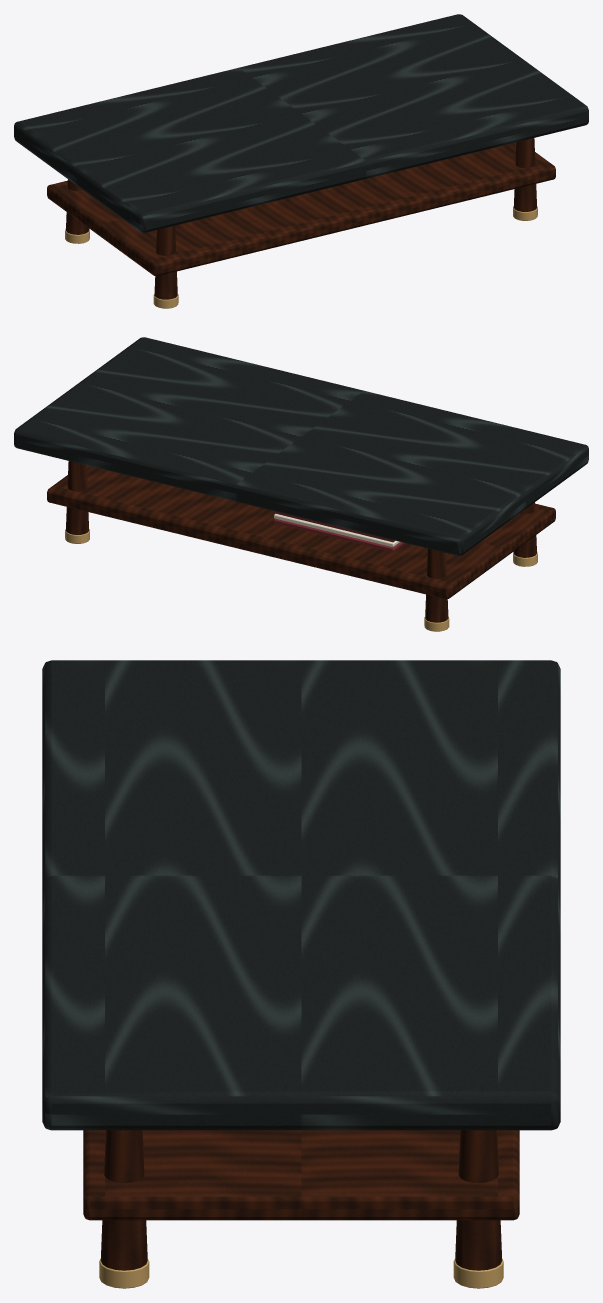
The model's file is hotel-coffee-table.glb.
3 views of the same model, one above another, from view 1: azimuth 30°, elevation 25°; view 2: azimuth 150°, elevation 25°; view 3: azimuth 270°, elevation 25° (orthographic). The views are drawn at different scales.
Visible parts, largest first — view 1: Static | Green marble | original mineral veins.010, Static | Walnut | original longitudinal grain.010, Static | Aged champagne brass.010; view 2: Static | Green marble | original mineral veins.010, Static | Walnut | original longitudinal grain.010, Static | Oxblood leather.010, Static | Aged champagne brass.010, Static | Warm ivory porcelain.010; view 3: Static | Green marble | original mineral veins.010, Static | Walnut | original longitudinal grain.010, Static | Aged champagne brass.010.
Part boxes in pixels (x1,y1,x2,y2): Static | Green marble | original mineral veins.010: (14,14,588,232); Static | Walnut | original longitudinal grain.010: (47,138,555,299); Static | Aged champagne brass.010: (65,206,537,308); Static | Green marble | original mineral veins.010: (14,337,588,555); Static | Walnut | original longitudinal grain.010: (47,461,555,622); Static | Oxblood leather.010: (274,511,405,551); Static | Aged champagne brass.010: (65,529,537,631); Static | Warm ivory porcelain.010: (274,513,399,546); Static | Green marble | original mineral veins.010: (42,660,560,1130); Static | Walnut | original longitudinal grain.010: (83,1130,519,1270); Static | Aged champagne brass.010: (99,1258,503,1288).
Bounding box in the file's own units: 2.4 × 0.58 × 1.2.
5 materials, 2 textured.
